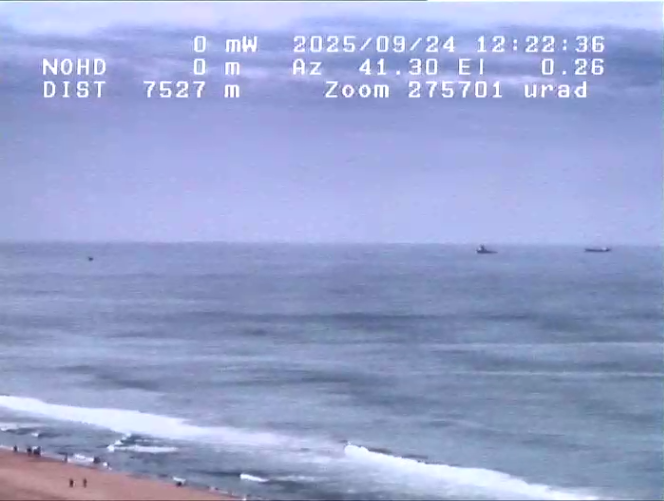OFFSHORE_SUPPLY_VESSEL: (473, 238, 504, 263)
TANKER: (576, 237, 615, 257)
